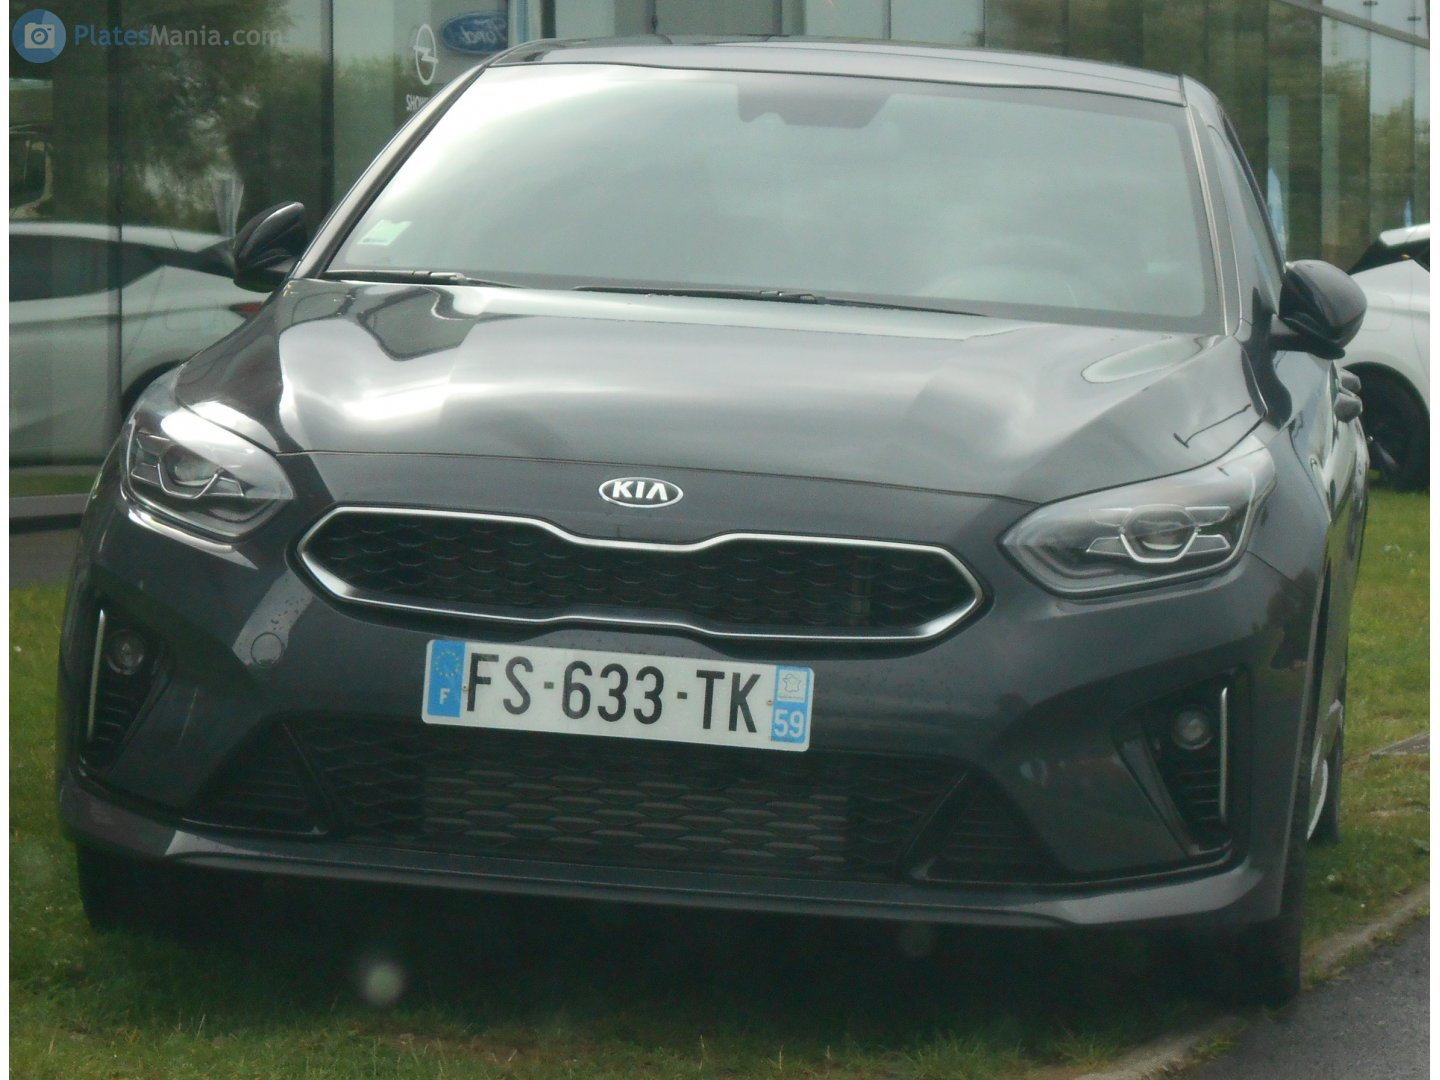licence plate: (419, 635, 816, 755)
